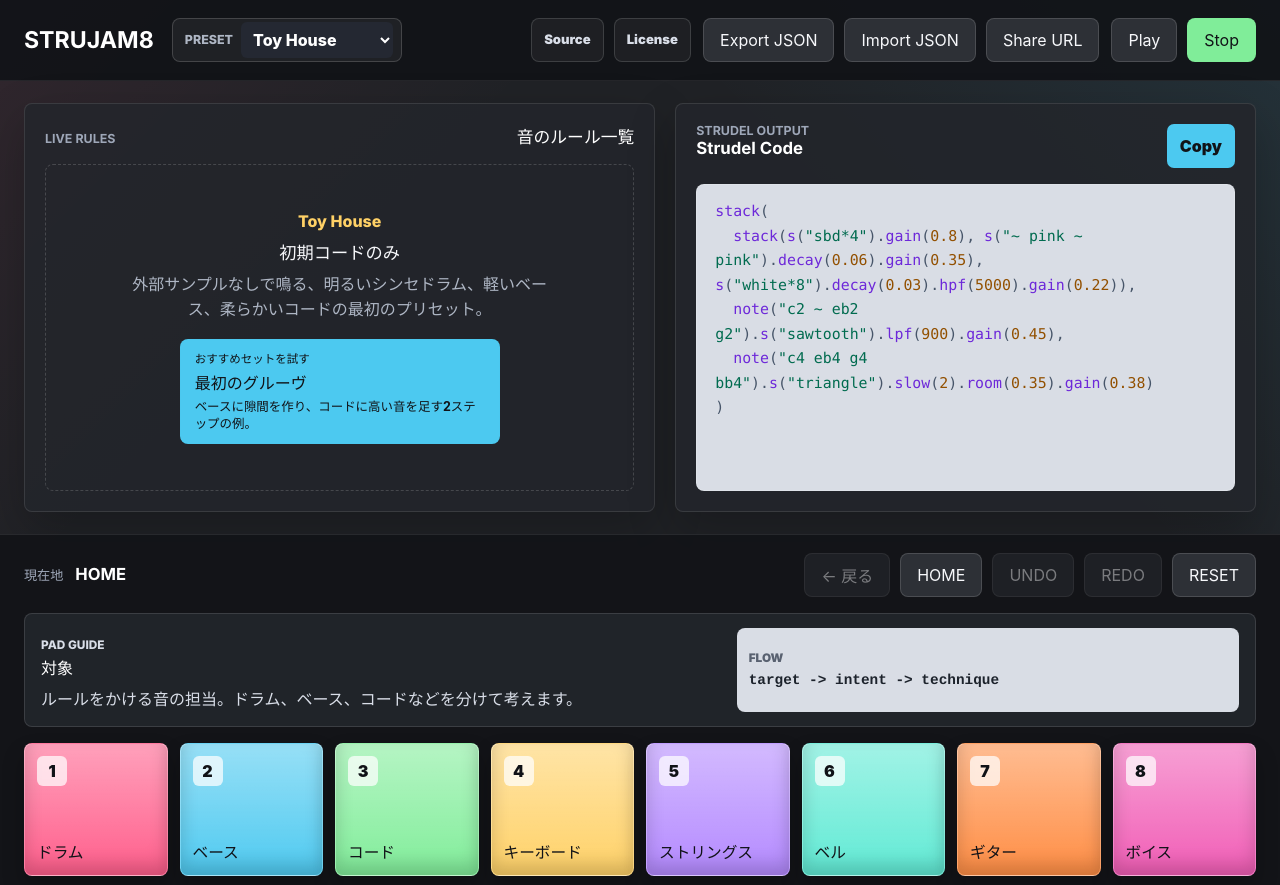
Test: App interactions › offers a starter jam that updates code and can be undone as one change
Click the button "おすすめセットを試す": [252, 359] box [180,339,500,444]
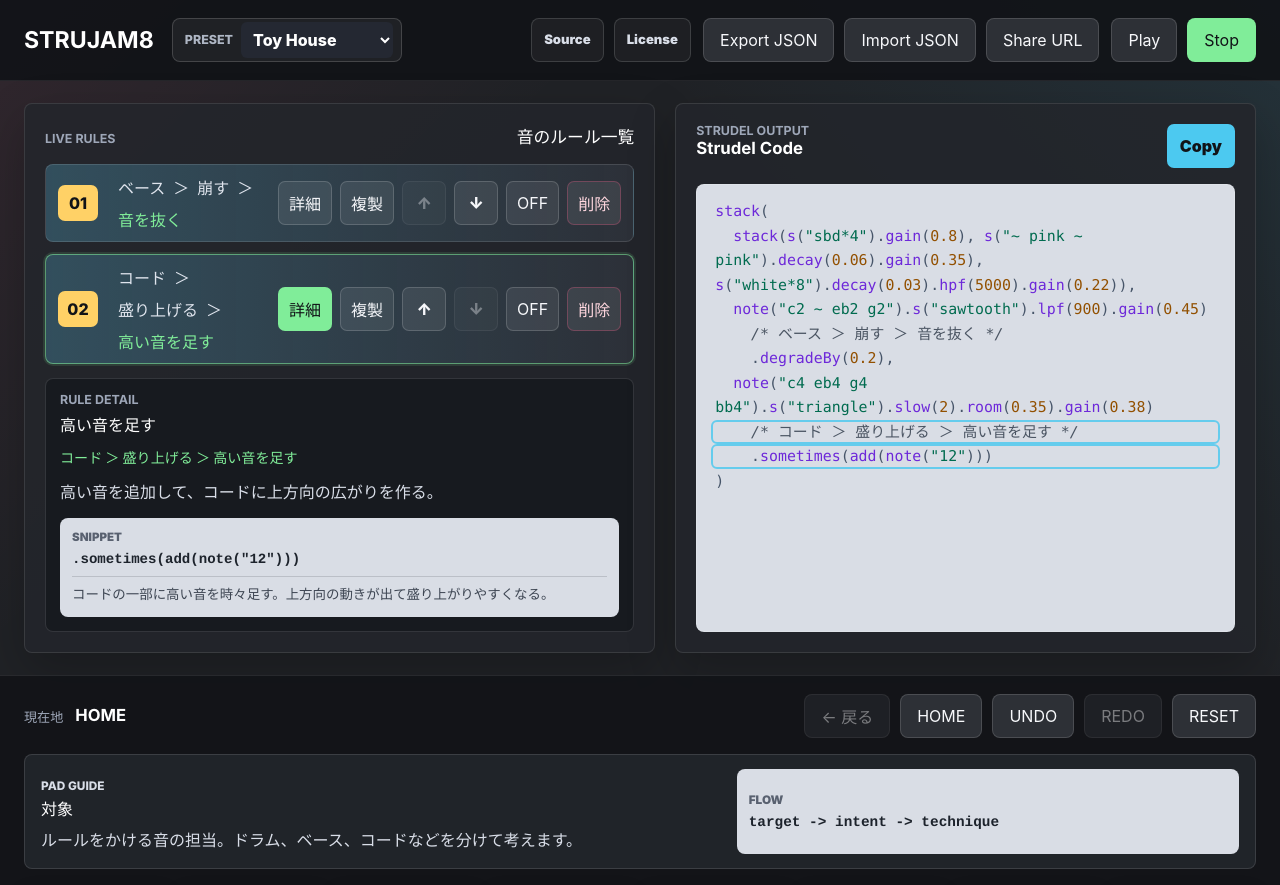
Expected: the element named "Audible Strudel code" shows ".degradeBy(0.2)", [696,184,1235,632]
Expected: the element named "Audible Strudel code" shows ".sometimes(add(note(\"12\")))", [696,184,1235,632]
Click the button "UNDO": [1033, 716] box [992,694,1074,738]
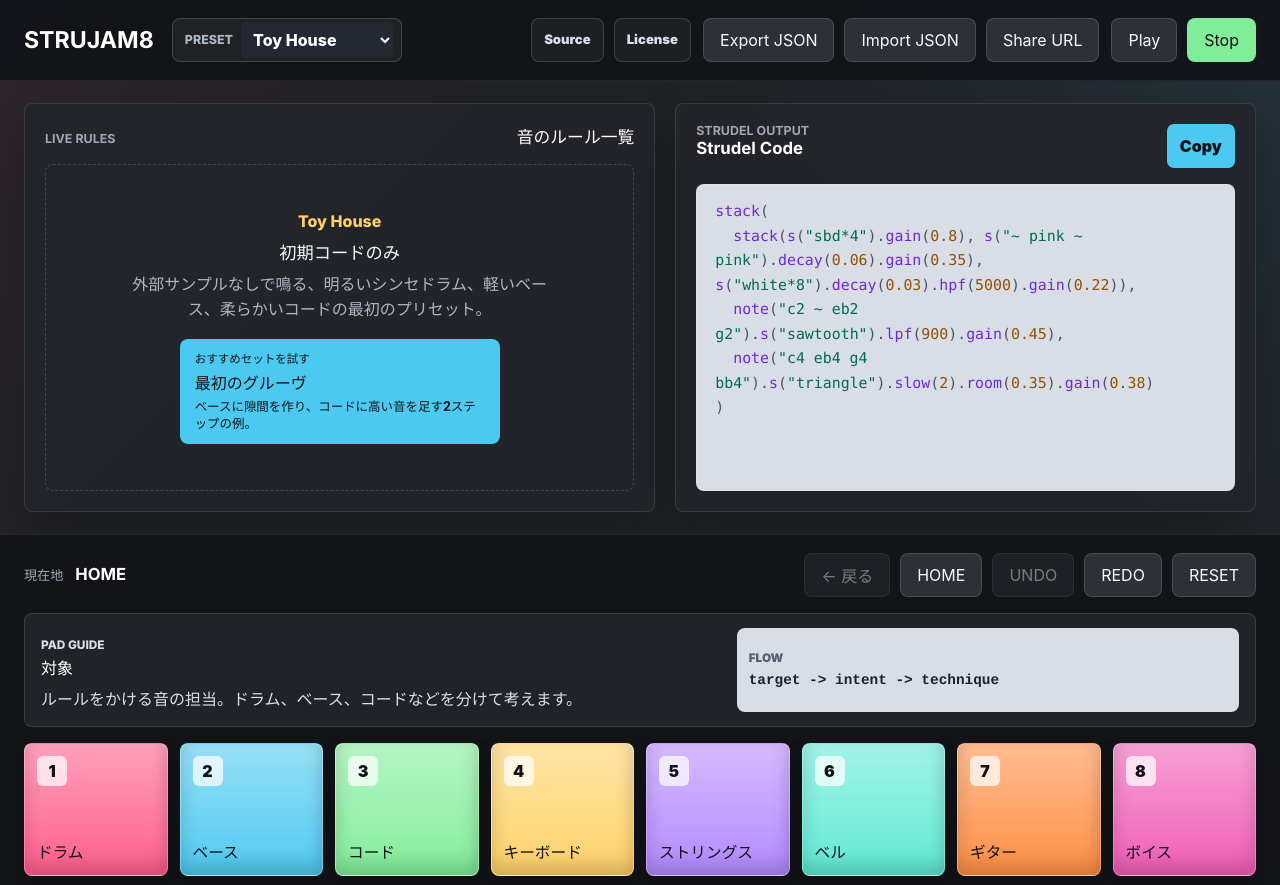
Expected: no list items are shown
Expected: the element named "Audible Strudel code" no longer shows ".degradeBy(0.2)", [696,184,1235,491]
